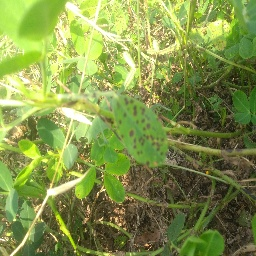GroundNut_Leaf: (114, 95, 168, 164), (19, 1, 68, 38), (1, 53, 40, 76), (35, 119, 65, 147), (103, 173, 125, 201), (1, 1, 17, 39), (75, 170, 96, 198), (200, 231, 220, 256), (242, 1, 256, 34), (232, 90, 251, 113), (87, 28, 101, 58), (93, 118, 109, 143), (91, 145, 111, 165), (5, 189, 18, 219), (1, 163, 15, 189), (236, 39, 255, 57)
